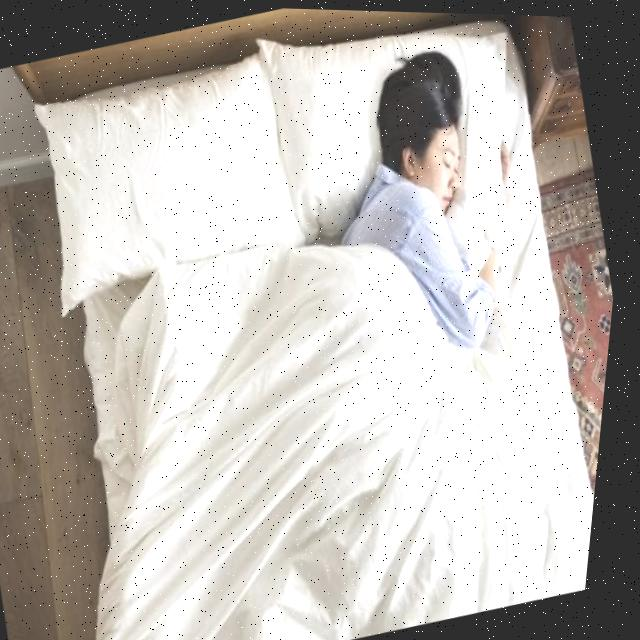sleeping-person: (168, 5, 636, 640)
